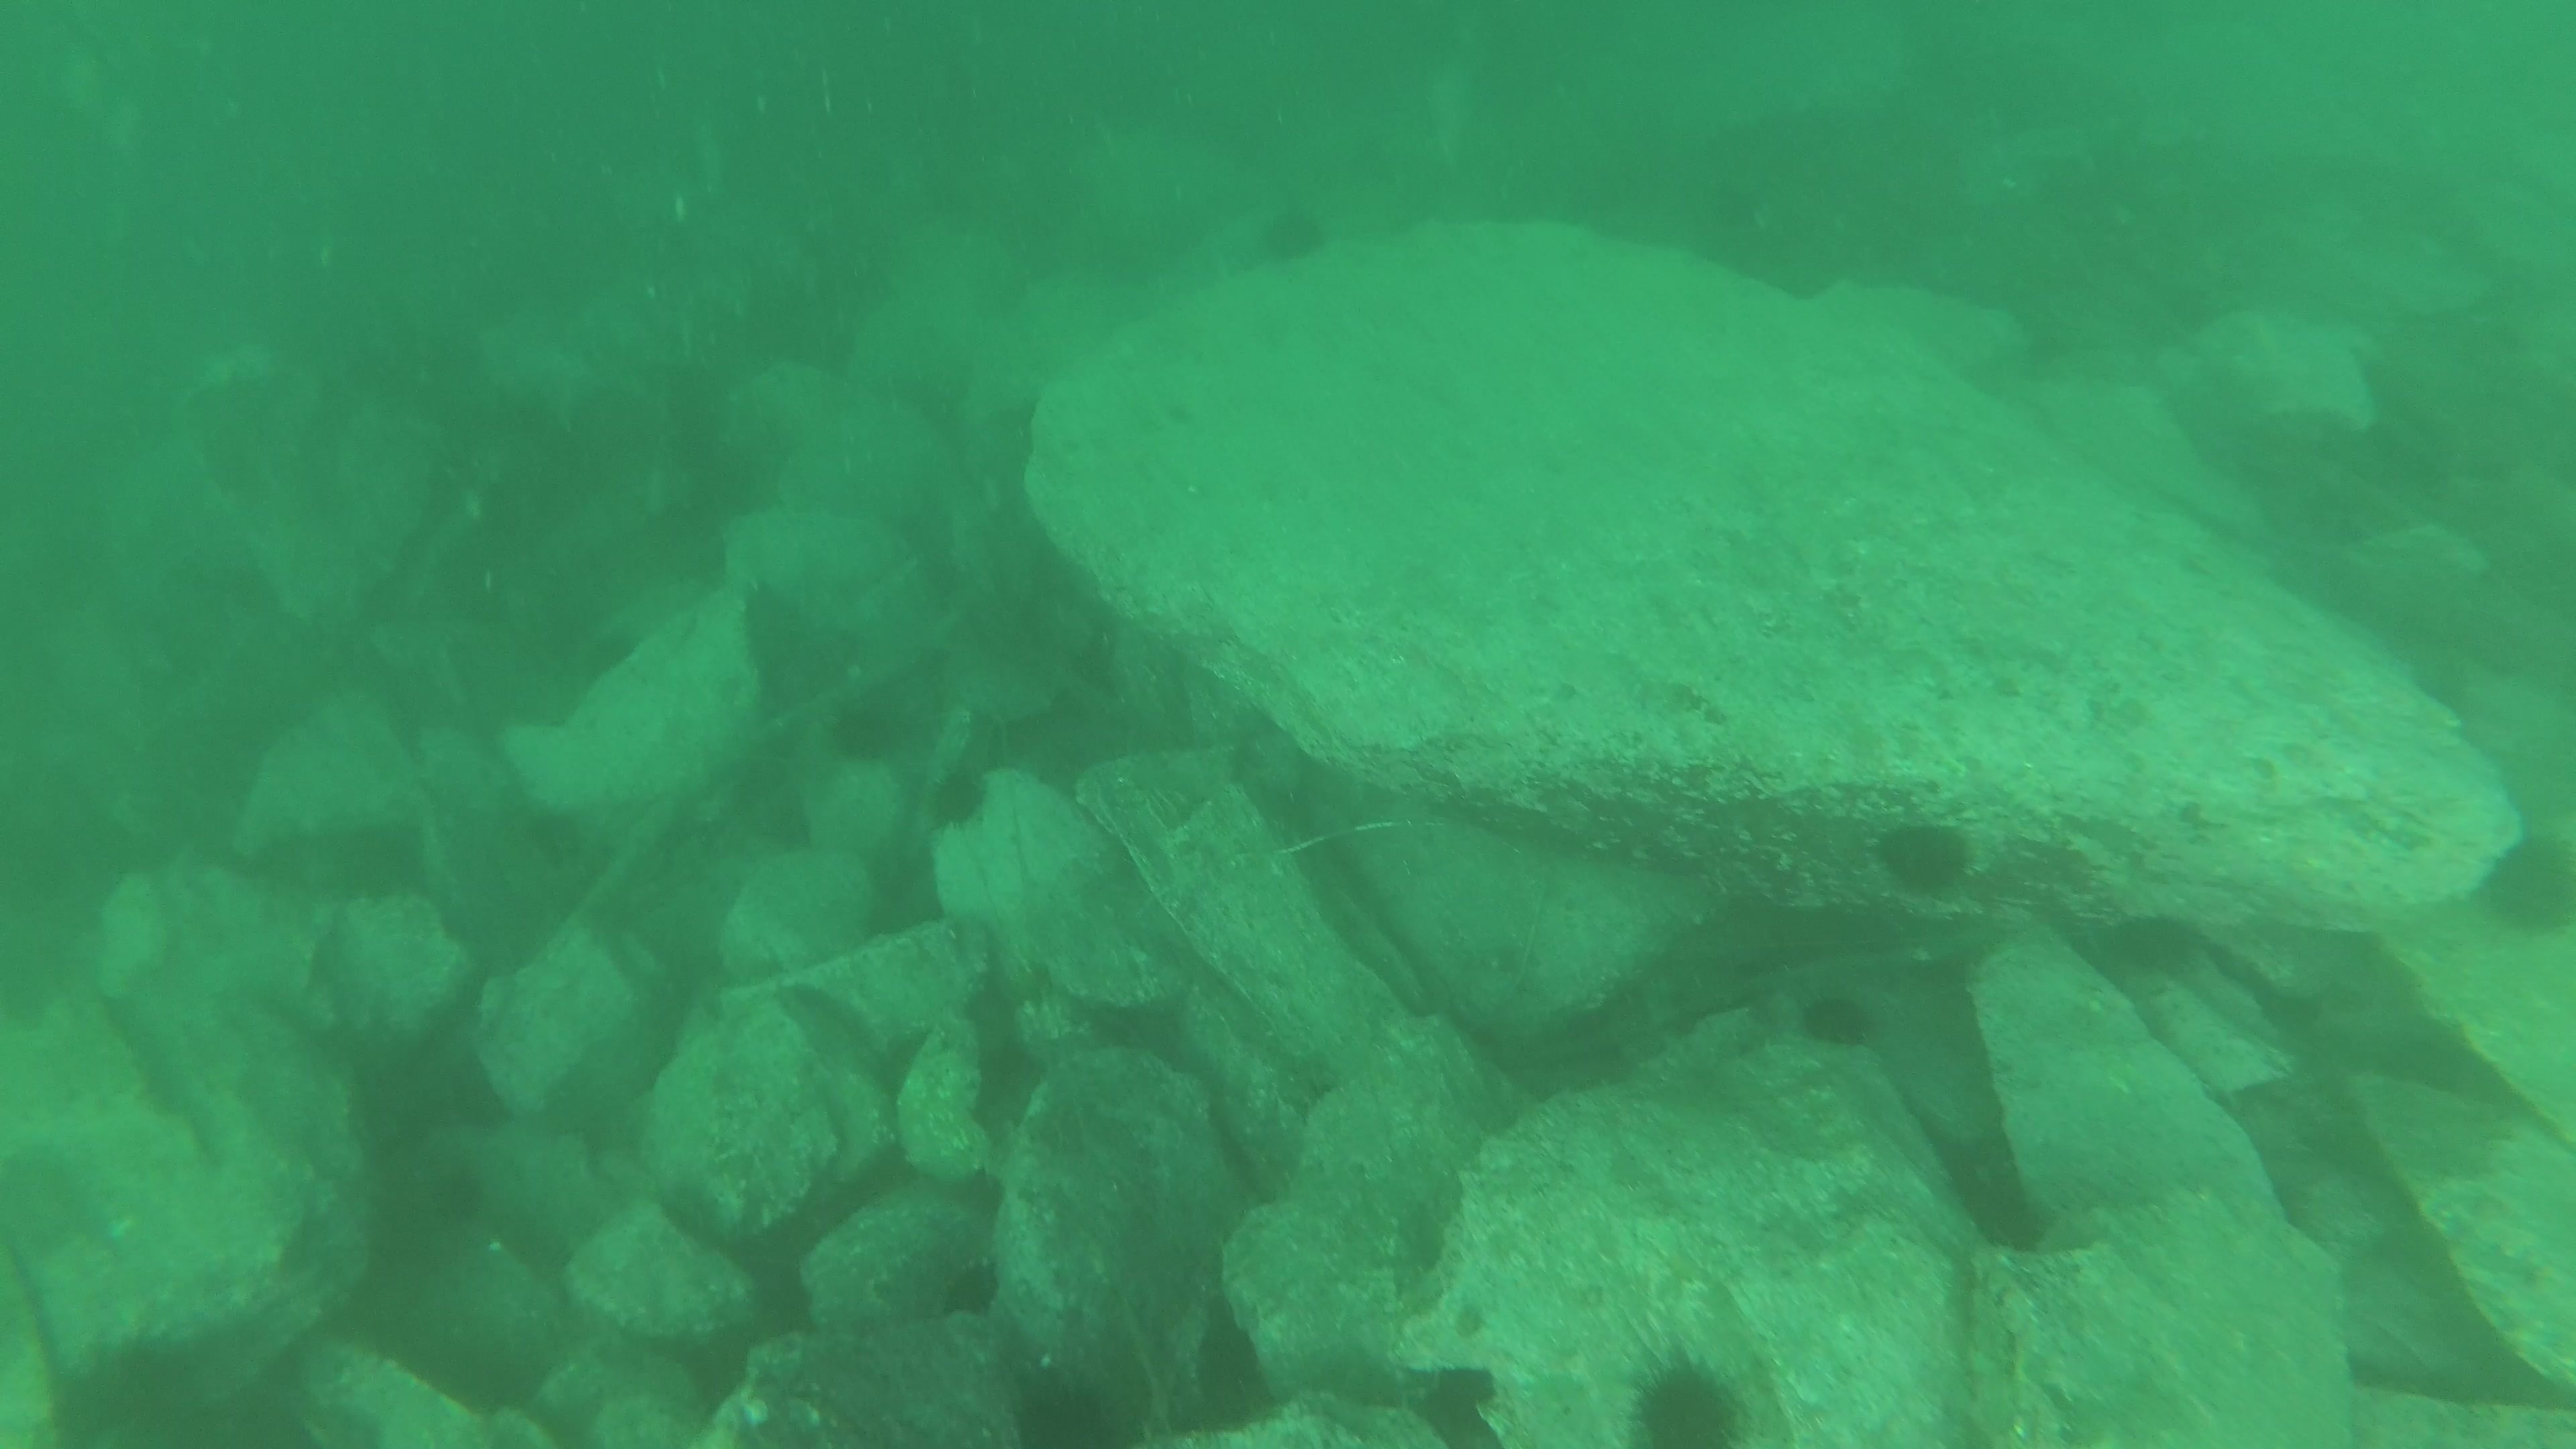echinus: (1624, 1352, 1755, 1449), (2475, 828, 2576, 941), (1005, 1362, 1127, 1447), (1870, 810, 1978, 904), (823, 688, 911, 770), (1247, 195, 1334, 272), (1794, 982, 1881, 1054), (920, 759, 994, 833)
